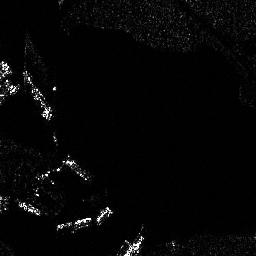ship: (30, 84, 54, 119), (62, 155, 89, 181), (56, 215, 91, 233), (15, 198, 41, 217)
